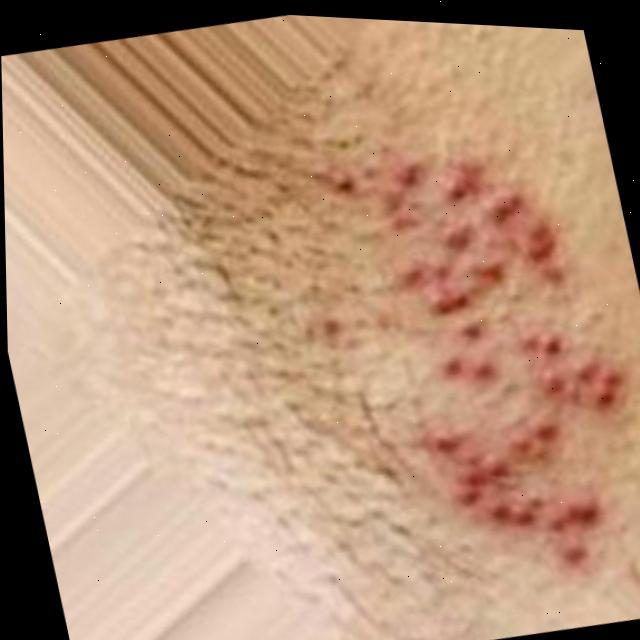Shingles: (385, 142, 640, 588)
